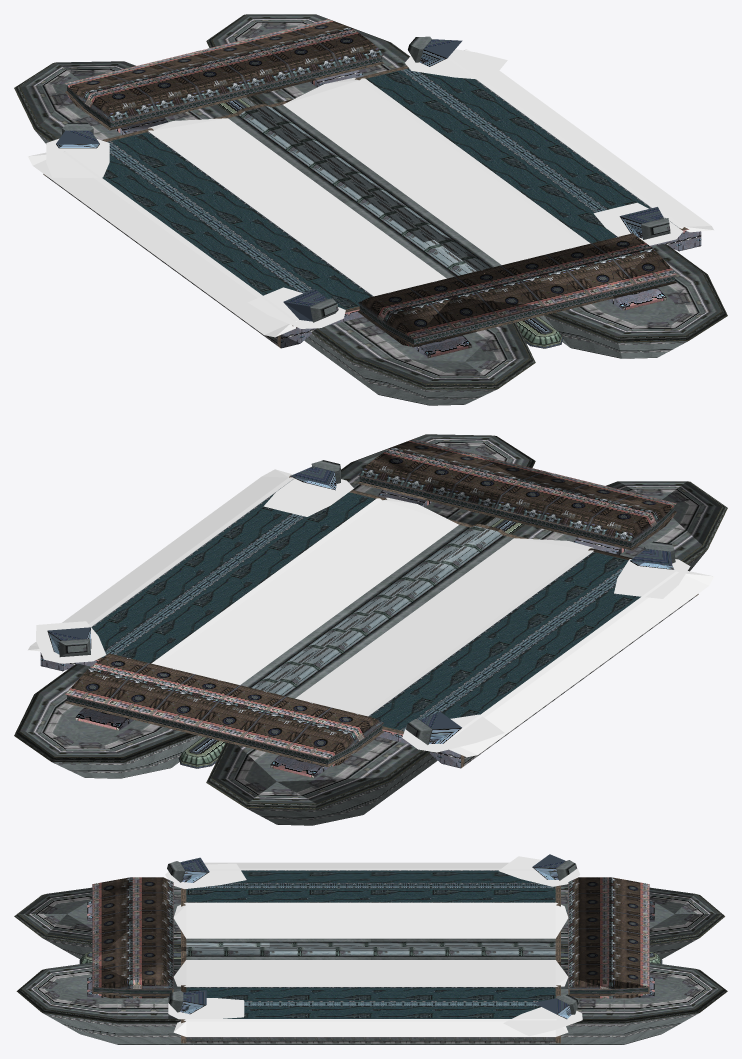
File: caves-derolle.obj
3 renders of one model, top to bottom at view 1: azimuth 30°, elevation 25°; view 2: azimuth 150°, elevation 25°; view 3: azimuth 270°, elevation 25°, orthographic. The views are drawn at different scales.
Visible parts, largest first — view 1: mesh_1, mesh_23, mesh_4, mesh_10, mesh_16, mesh_13, mesh_20, mesh_19, mesh_15, mesh_17, mesh_12, mesh_3 (+17 smaller); view 2: mesh_1, mesh_23, mesh_10, mesh_4, mesh_16, mesh_13, mesh_20, mesh_19, mesh_15, mesh_17, mesh_12, mesh_27 (+16 smaller); view 3: mesh_1, mesh_23, mesh_10, mesh_4, mesh_13, mesh_16, mesh_12, mesh_20, mesh_19, mesh_22, mesh_14, mesh_31 (+12 smaller).
Boxes of the visible parts, <box> form: mesh_1: <box>28,49,713,337</box>; mesh_23: <box>102,68,678,309</box>; mesh_4: <box>358,233,676,346</box>; mesh_10: <box>65,19,383,130</box>; mesh_16: <box>20,61,529,383</box>; mesh_13: <box>212,14,721,336</box>; mesh_20: <box>239,106,490,275</box>; mesh_19: <box>228,105,501,278</box>; mesh_15: <box>35,130,497,405</box>; mesh_17: <box>14,61,535,389</box>; mesh_12: <box>241,97,687,358</box>; mesh_3: <box>359,275,674,344</box>; mesh_1: <box>28,469,713,757</box>; mesh_23: <box>91,479,640,731</box>; mesh_10: <box>65,653,383,766</box>; mesh_4: <box>358,439,676,550</box>; mesh_16: <box>212,481,721,803</box>; mesh_13: <box>20,434,529,756</box>; mesh_20: <box>251,526,502,695</box>; mesh_19: <box>240,525,513,698</box>; mesh_15: <box>245,550,706,825</box>; mesh_17: <box>206,481,727,809</box>; mesh_12: <box>52,517,500,778</box>; mesh_27: <box>263,478,353,516</box>; mesh_1: <box>173,861,568,1036</box>; mesh_23: <box>186,870,555,1018</box>; mesh_10: <box>568,877,649,998</box>; mesh_4: <box>92,877,173,998</box>; mesh_13: <box>22,959,722,1018</box>; mesh_16: <box>19,884,719,943</box>; mesh_12: <box>42,1012,699,1044</box>; mesh_20: <box>186,942,555,955</box>; mesh_19: <box>186,938,555,959</box>; mesh_22: <box>186,1037,555,1043</box>; mesh_14: <box>16,969,727,1023</box>; mesh_31: <box>503,1007,582,1036</box>.
Bounding box in the file's own units: 168 × 25 × 282.
Materials: 14 (13 with a texture image).
